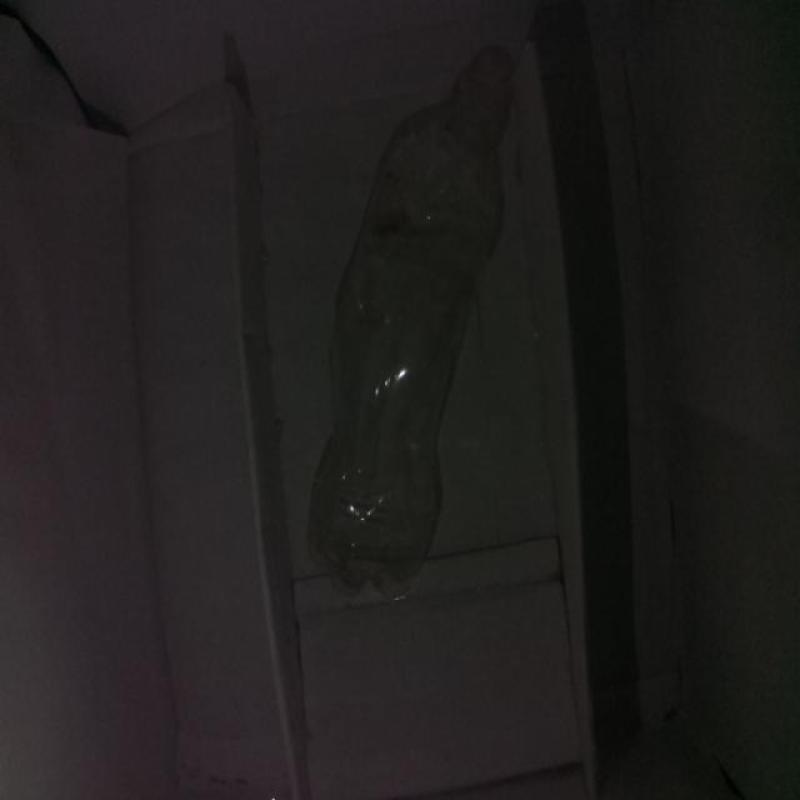botella: (308, 44, 520, 601)
